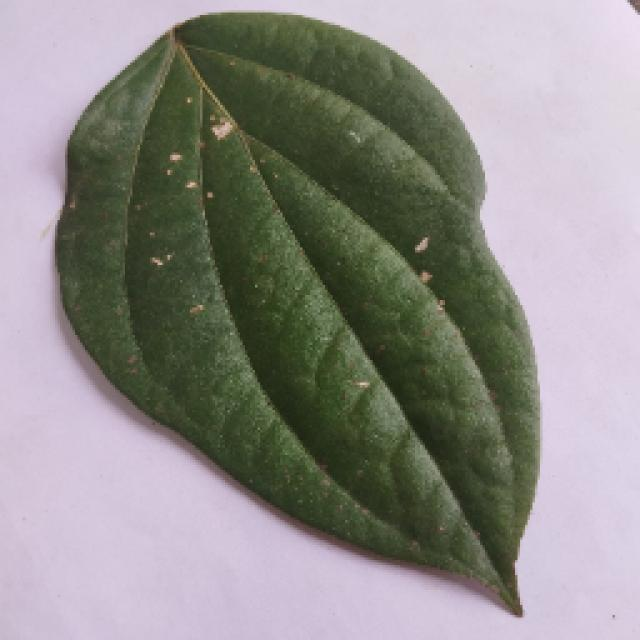pollu-disease: (32, 22, 588, 618)
